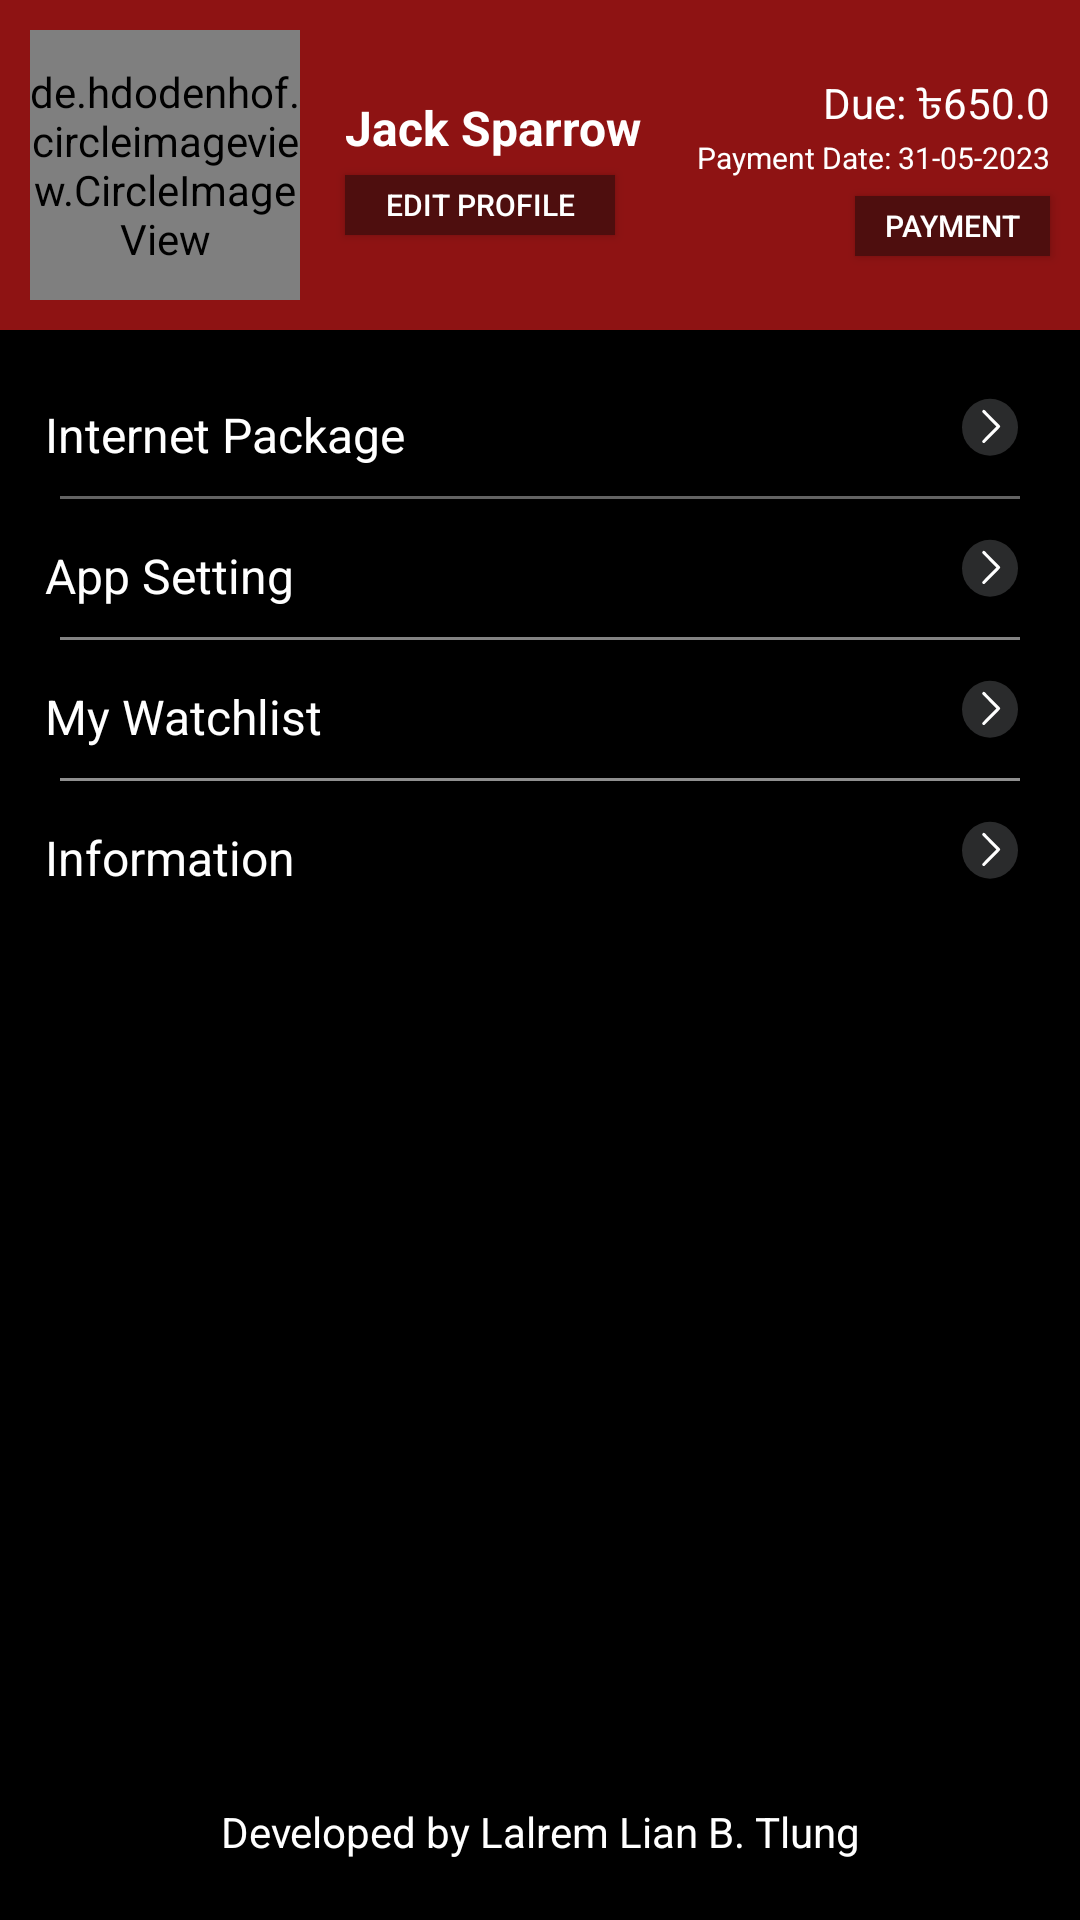

Icons on this 1080x1920 Android screen, each with the point to tap as [x,y]:
next: [990,427], [990,568], [990,709], [990,850]
